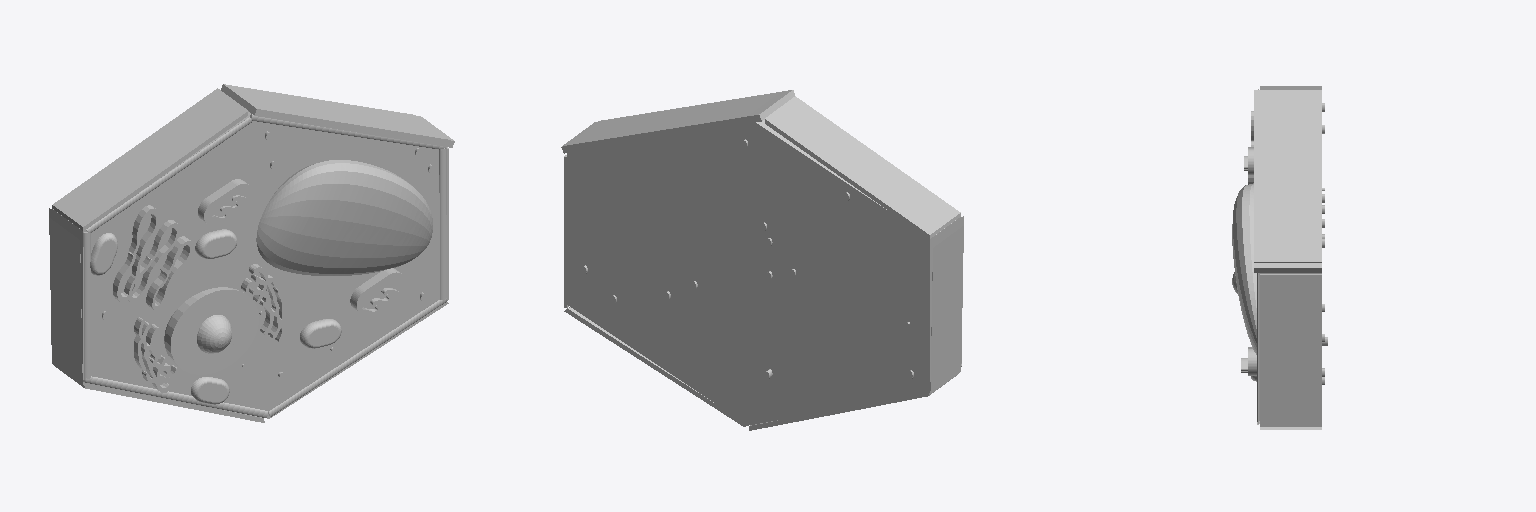
The model's file is cell.obj.
The picture shows the model from 3 angles: view 1: azimuth 30°, elevation 25°; view 2: azimuth 150°, elevation 25°; view 3: azimuth 270°, elevation 25°; orthographic projection.
Parts seen in each view (by area): view 1: obj_0; view 2: obj_0; view 3: obj_0.
Boxes of the visible parts, x1,y1,x2,y2 form: obj_0: [49, 84, 454, 422]; obj_0: [561, 90, 963, 430]; obj_0: [1232, 86, 1327, 429].
Size of the model in its own units: 139 by 114 by 31.